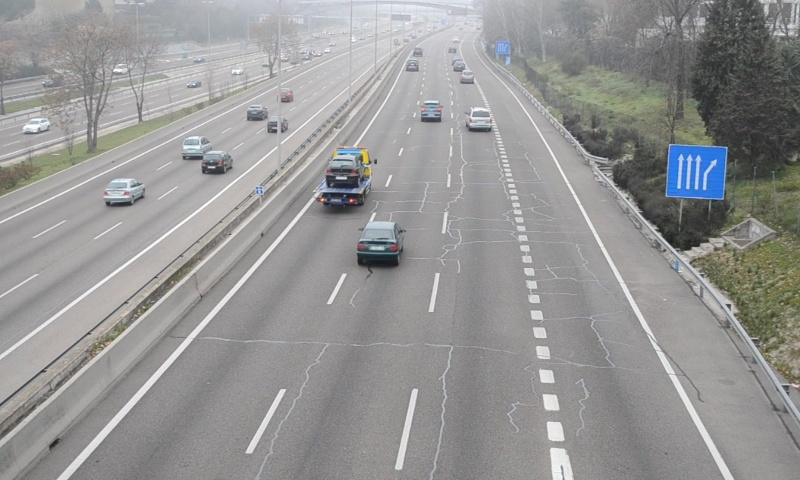car: (356, 221, 404, 263), (466, 107, 493, 130), (419, 100, 443, 120), (460, 68, 475, 84), (404, 57, 418, 70)
small-truck: (312, 146, 371, 209)
